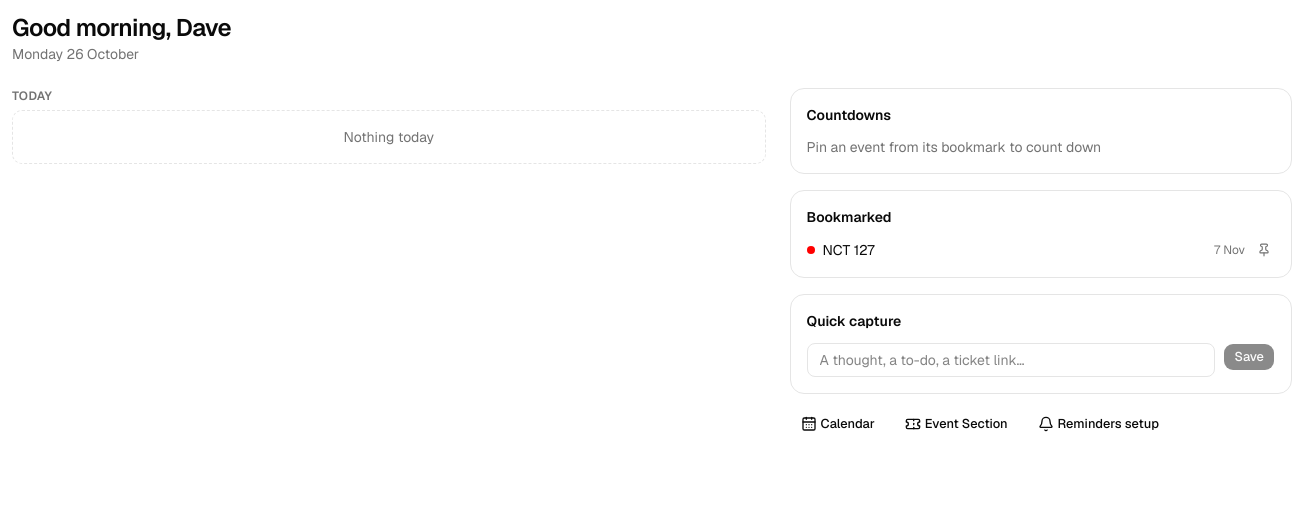
Test: HomeDashboard › rolls back only the failed pin and can dismiss the error
What coordinates should you click on to do the following:
click the button named "Pin countdown for NCT 127"
I would click on:
 (1264, 250)
Its box is [1253,239,1275,261].
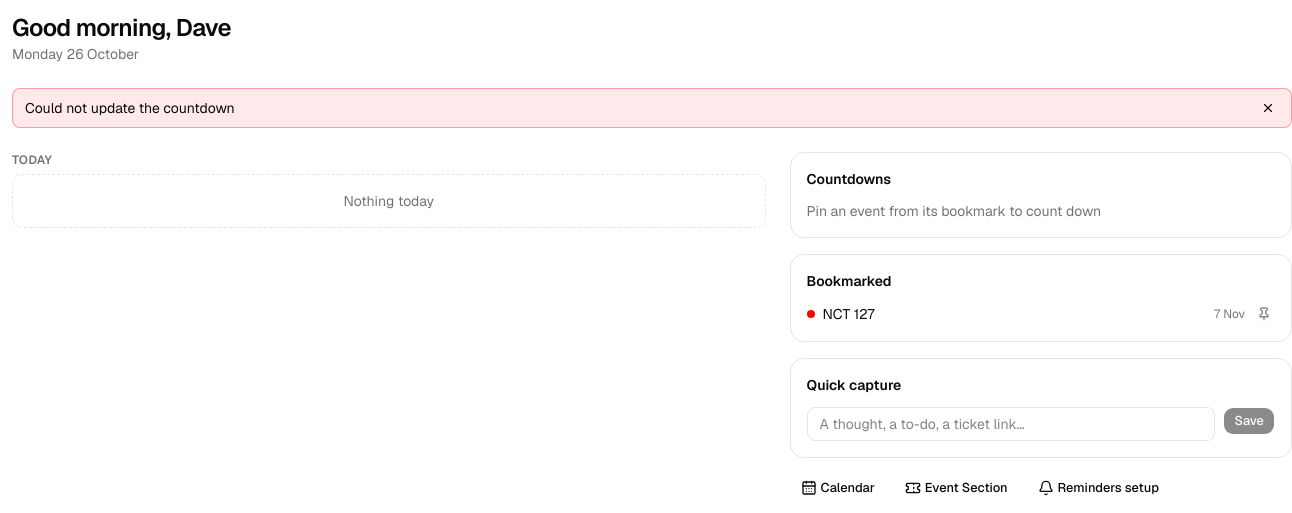
Expected: the message reads "Could not update the countdown", [25,99,235,117]
What coordinates should you click on to do the following:
click the button named "Dismiss error"
I would click on:
 (1268, 108)
Its box is [1257,97,1279,119].
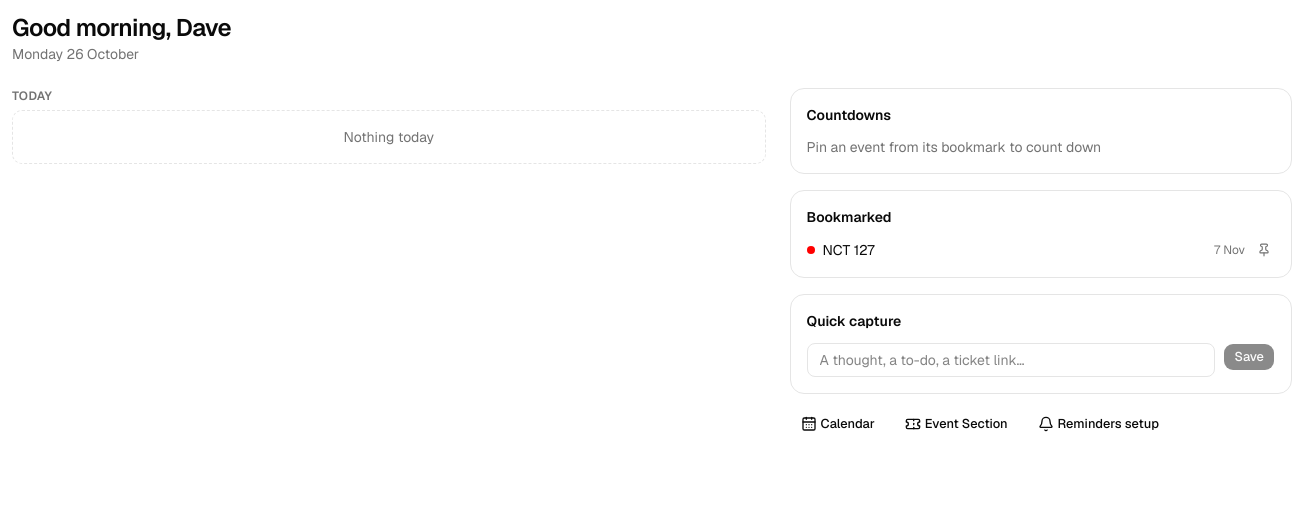
Expected: the message "Could not update the countdown" is gone
